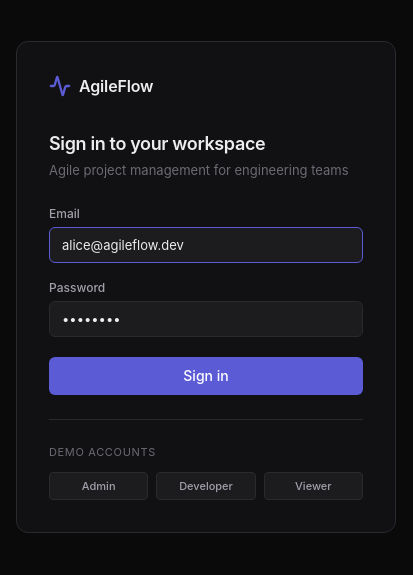
it: Login flow › shows error for wrong credentials
Replace the text in the field with "wrong@test.com": (206, 245) [49,227,363,263]
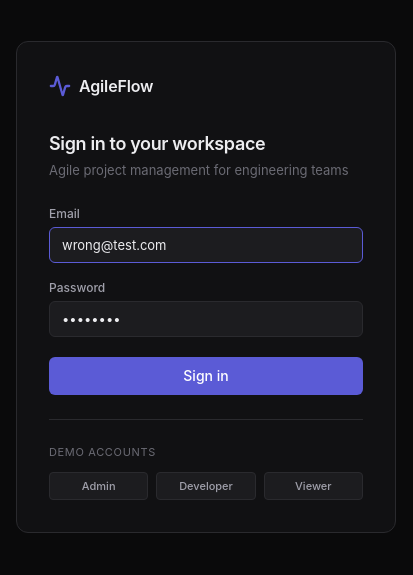
In the password field: (206, 319) [49,301,363,337], type "wrongpassword"
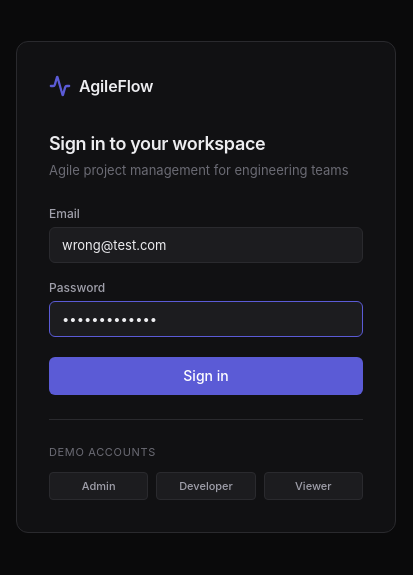
Click the submit button: (206, 376) [49,357,363,395]
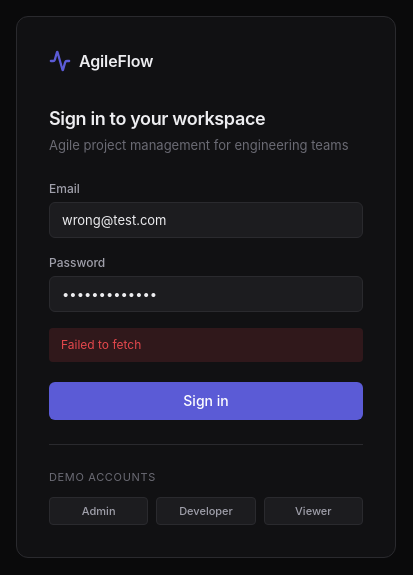
Check: the text "Failed to fetch" is shown, box [49,328,363,362]
